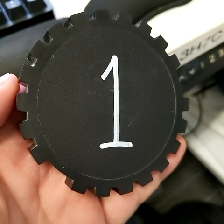gear: (14, 8, 191, 199)
missing: (26, 140, 89, 195), (166, 51, 191, 113)
